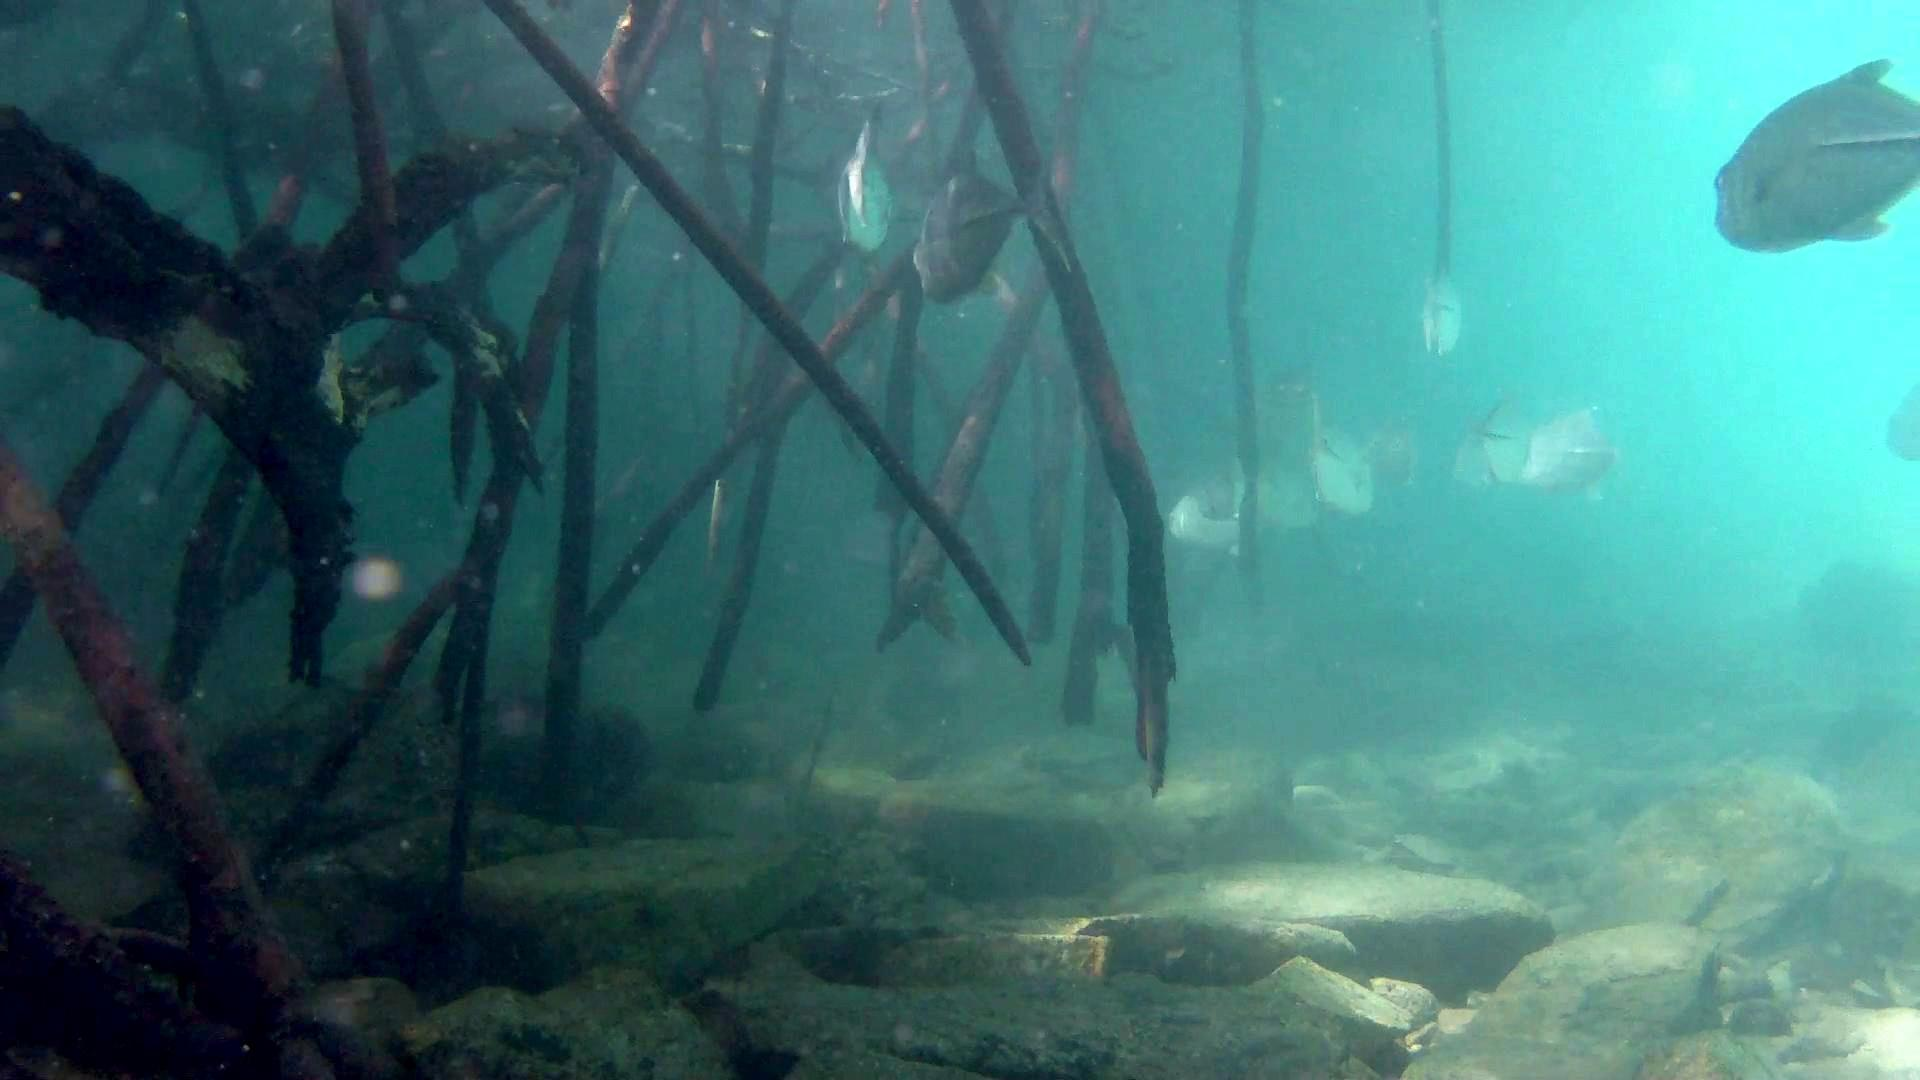caranx: (1683, 54, 1920, 257), (906, 142, 1093, 319)
